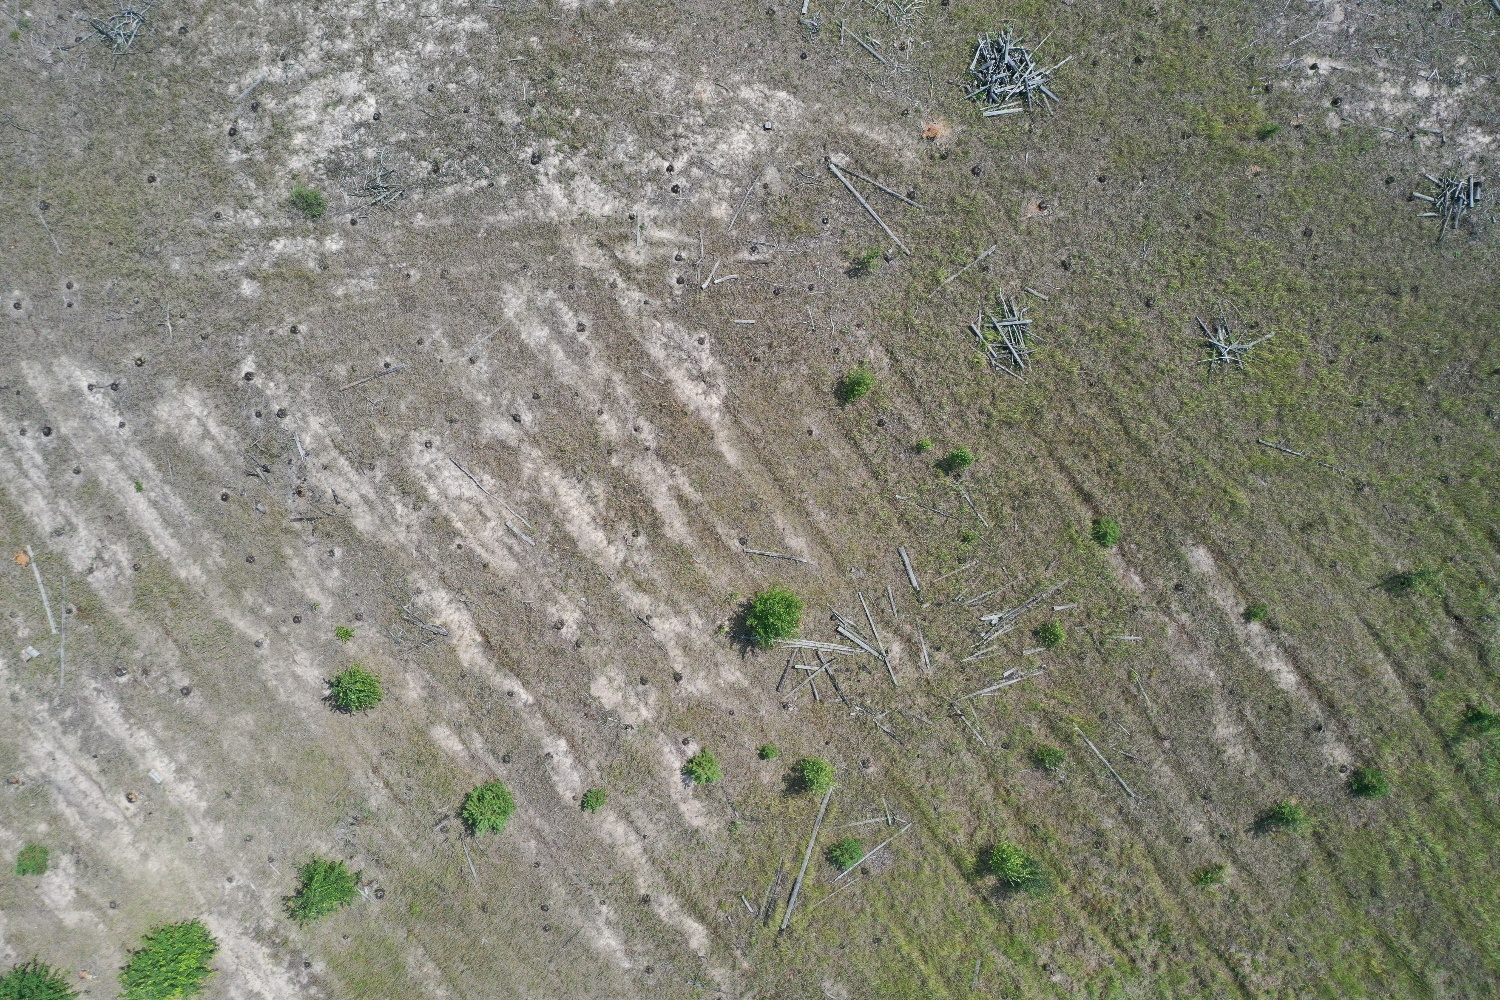branches: (963, 29, 1073, 117), (968, 286, 1050, 384), (1195, 310, 1278, 379), (1412, 170, 1484, 241), (89, 4, 155, 57), (350, 151, 404, 209)
